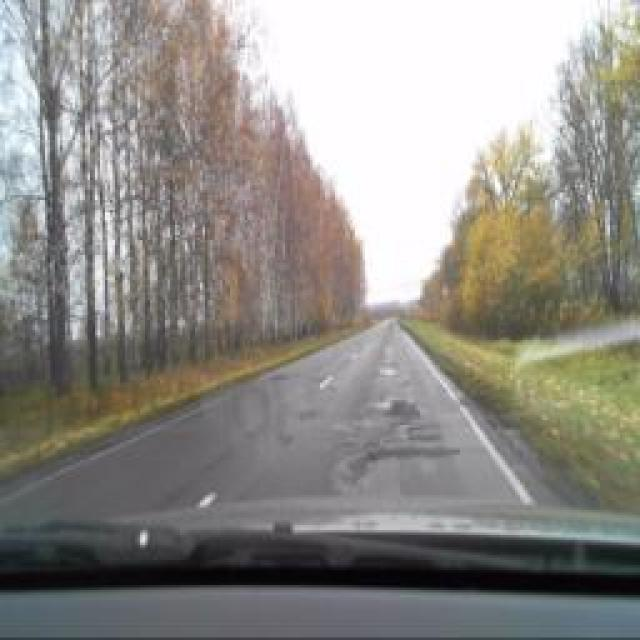sign: (441, 282, 451, 298)
